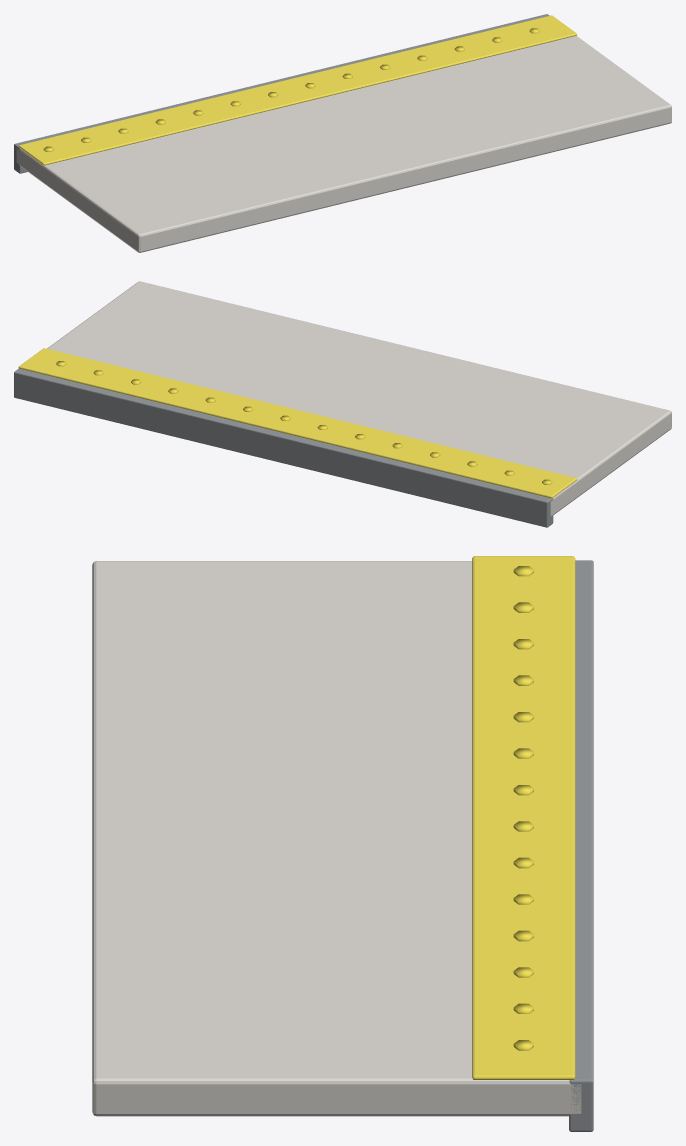
File: platform_edge.glb
The picture shows the model from 3 angles, top to bottom: view 1: azimuth 30°, elevation 25°; view 2: azimuth 150°, elevation 25°; view 3: azimuth 270°, elevation 25°; orthographic projection. The views are drawn at different scales.
Parts seen in each view (by area): view 1: edge_deck, edge_yellow, edge_lip; view 2: edge_deck, edge_lip, edge_yellow; view 3: edge_deck, edge_yellow, edge_lip.
Part boxes in pixels (bbox=[...]): edge_deck: bbox=[16, 35, 671, 252]; edge_yellow: bbox=[18, 15, 577, 165]; edge_lip: bbox=[14, 14, 549, 173]; edge_deck: bbox=[47, 281, 671, 515]; edge_lip: bbox=[14, 368, 553, 527]; edge_yellow: bbox=[18, 348, 577, 498]; edge_deck: bbox=[92, 561, 581, 1116]; edge_yellow: bbox=[472, 556, 575, 1079]; edge_lip: bbox=[569, 560, 593, 1131].
Size of the model in its own units: 3 by 0.159 by 1.22.
